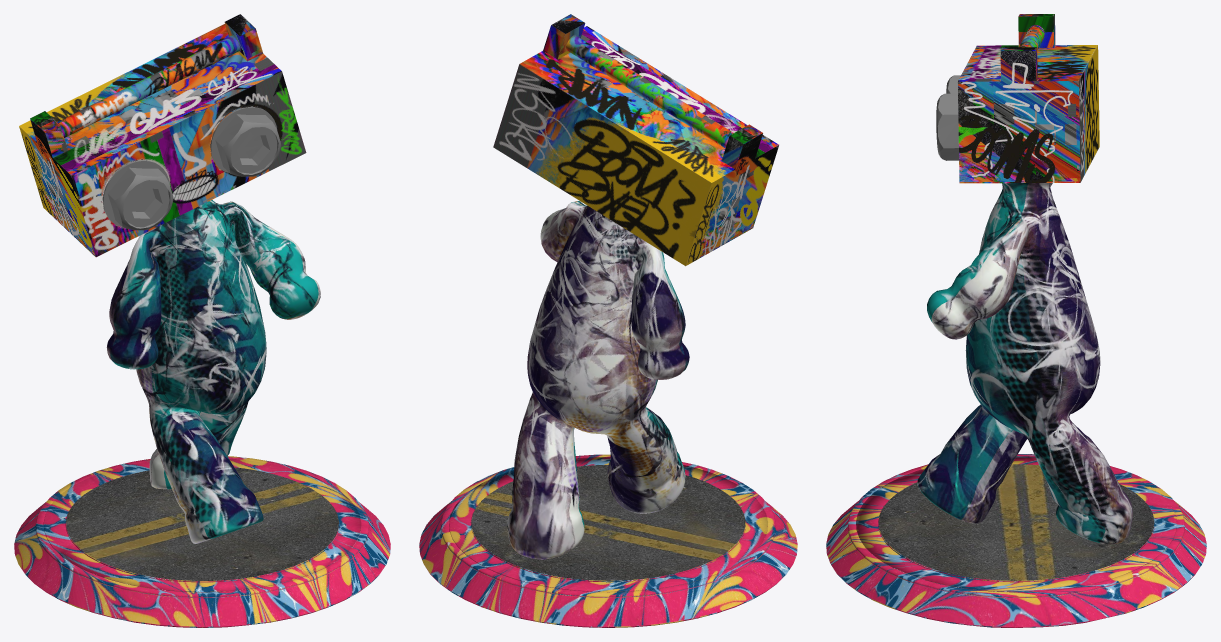
3 renders of one model, left to right at view 1: azimuth 30°, elevation 25°; view 2: azimuth 150°, elevation 25°; view 3: azimuth 270°, elevation 25°, orthographic.
Parts seen in each view (by area): view 1: BBody; view 2: BBody; view 3: BBody.
Part boxes in pixels (box(x1,y1,x2,y2)): BBody: box(14, 14, 390, 627); BBody: box(419, 14, 797, 627); BBody: box(826, 14, 1206, 627).
Size of the model in its own units: 1.45 by 2.19 by 1.45.
5 materials, 4 textured.
